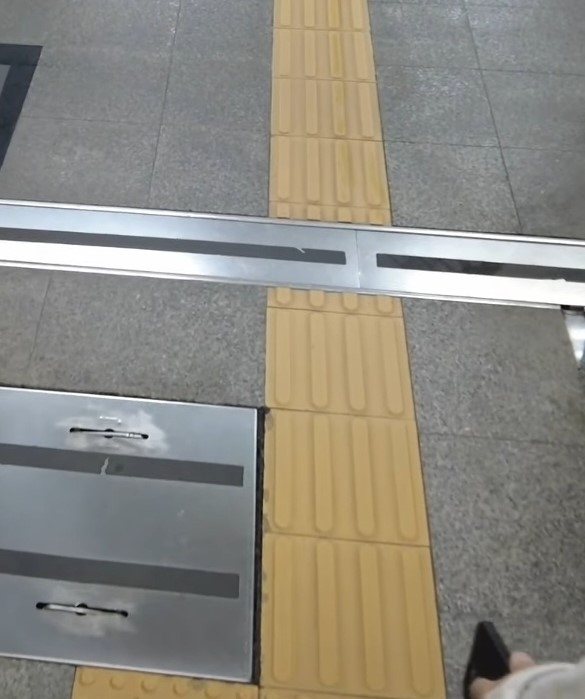guideBlock: (269, 537, 455, 699), (267, 419, 435, 536), (264, 312, 424, 427), (264, 77, 406, 142), (267, 136, 385, 213), (275, 37, 381, 98), (283, 1, 364, 53)
